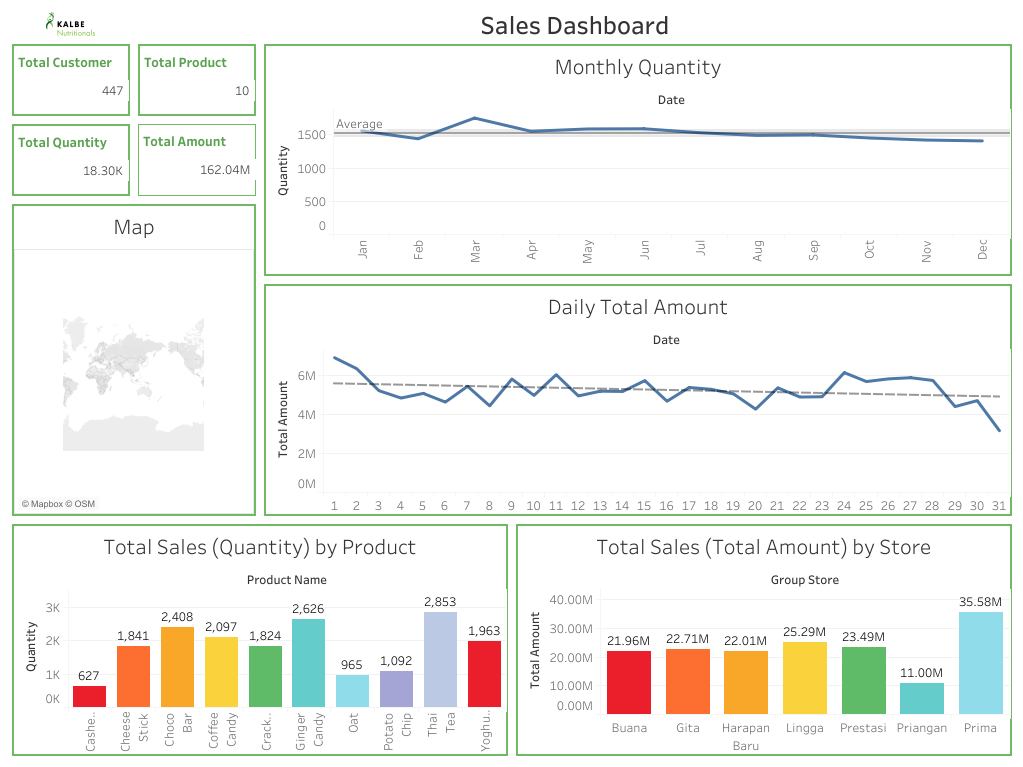

The dashboard page shown, as its layout file describes it:
{"tool":"tableau","page":{"name":"Sales Dashboard","canvas":[1024,768],"ordinal":0},"visuals":[{"type":"image","param":"Image/Kalbe_Nutritionals.png","box":[8,8,126,32]},{"type":"title","box":[134,8,882,32]},{"type":"worksheet","title":"Customer","mark":"Text","box":[8,40,126,80]},{"type":"worksheet","title":"Product","mark":"Text","box":[134,40,126,80]},{"type":"worksheet","title":"Jumlah qty dari bulan ke bulan","mark":"Automatic","rows":["Qty"],"cols":["Date"],"box":[260,40,756,240]},{"type":"worksheet","title":"Quantity","mark":"Text","box":[8,120,126,80]},{"type":"worksheet","title":"Amount","mark":"Text","box":[134,120,126,80]},{"type":"worksheet","title":"Map","mark":"Automatic","box":[8,200,252,320]},{"type":"worksheet","title":"Jumlah total amount dari hari ke hari","mark":"Automatic","rows":["TotalAmount"],"cols":["Date"],"box":[260,280,756,240]},{"type":"worksheet","title":"Jumlah penjualan (qty) by product","mark":"Automatic","rows":["Qty"],"cols":["Product Name"],"box":[8,520,504,240]},{"type":"worksheet","title":"Jumlah penjualan (total amount) by group store","mark":"Automatic","rows":["TotalAmount"],"cols":["GroupStore"],"box":[512,520,504,240]}]}

Visuals, with their boxes in screenshot pixels (x1, y1, x2, y2), scaled from the page's 1024x768 canvas onto the 1023x767 screenshot:
image: (x1=8, y1=8, x2=134, y2=40)
title: (x1=134, y1=8, x2=1015, y2=40)
"Customer" worksheet (Text marks): (x1=8, y1=40, x2=134, y2=120)
"Product" worksheet (Text marks): (x1=134, y1=40, x2=260, y2=120)
"Jumlah qty dari bulan ke bulan" worksheet: (x1=260, y1=40, x2=1015, y2=280)
"Quantity" worksheet (Text marks): (x1=8, y1=120, x2=134, y2=200)
"Amount" worksheet (Text marks): (x1=134, y1=120, x2=260, y2=200)
"Map" worksheet: (x1=8, y1=200, x2=260, y2=519)
"Jumlah total amount dari hari ke hari" worksheet: (x1=260, y1=280, x2=1015, y2=519)
"Jumlah penjualan (qty) by product" worksheet: (x1=8, y1=519, x2=512, y2=759)
"Jumlah penjualan (total amount) by group store" worksheet: (x1=512, y1=519, x2=1015, y2=759)
